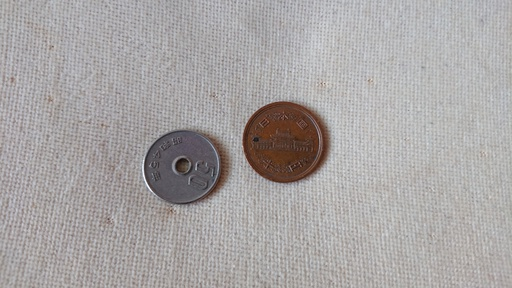10yen: (244, 102, 323, 183)
50yen: (142, 130, 222, 204)
